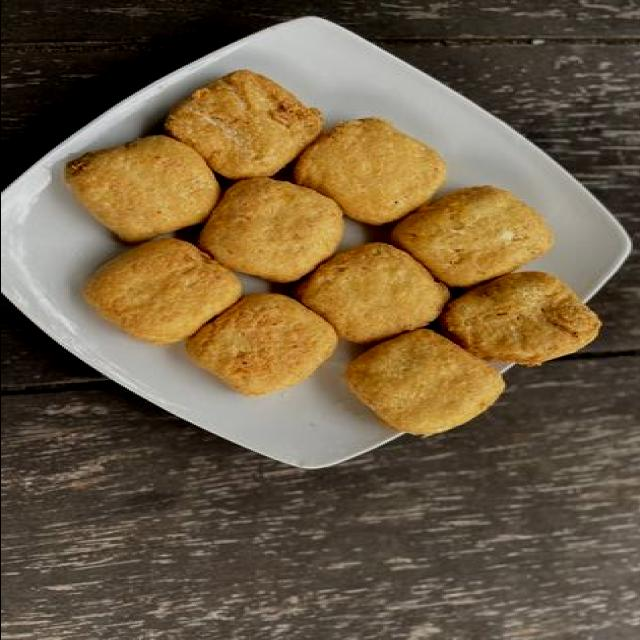tahu goreng: (156, 69, 321, 184), (386, 183, 553, 296), (77, 233, 244, 346), (266, 241, 449, 344), (341, 326, 504, 437), (282, 116, 445, 227), (61, 134, 219, 246), (191, 175, 343, 290), (431, 269, 601, 367), (181, 290, 337, 396)
